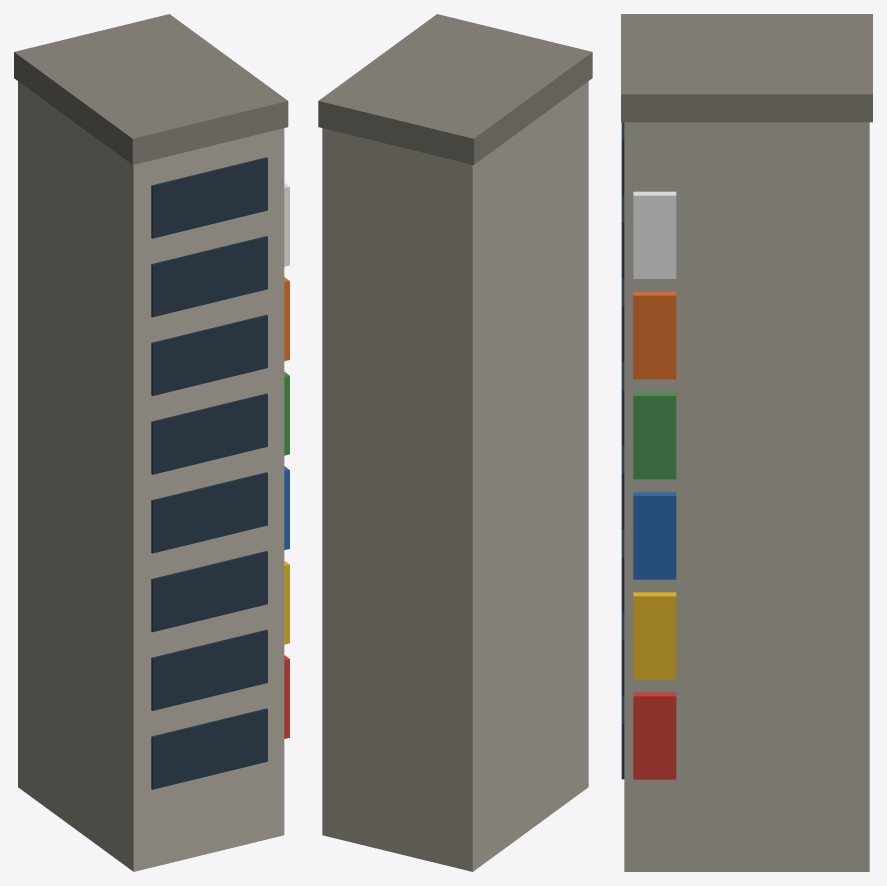
Rendered from city_pencil_building.glb.
The picture shows the model from 3 angles, left to right: view 1: azimuth 30°, elevation 25°; view 2: azimuth 150°, elevation 25°; view 3: azimuth 270°, elevation 25°; orthographic projection. The views are drawn at different scales.
Visible parts, largest first — view 1: city_pencil_building_concrete, city_pencil_building_window, city_pencil_building_concreteDark; view 2: city_pencil_building_concrete, city_pencil_building_concreteDark; view 3: city_pencil_building_concrete, city_pencil_building_concreteDark, city_pencil_building_red, city_pencil_building_yellow, city_pencil_building_blue, city_pencil_building_green, city_pencil_building_orange, city_pencil_building_white, city_pencil_building_window.
Boxes of the visible parts, bbox=[...] form: city_pencil_building_concrete: bbox=[18, 81, 284, 871]; city_pencil_building_window: bbox=[151, 157, 267, 789]; city_pencil_building_concreteDark: bbox=[14, 14, 288, 164]; city_pencil_building_concrete: bbox=[322, 81, 588, 871]; city_pencil_building_concreteDark: bbox=[318, 14, 592, 164]; city_pencil_building_concrete: bbox=[624, 122, 869, 871]; city_pencil_building_concreteDark: bbox=[621, 14, 872, 122]; city_pencil_building_red: bbox=[633, 692, 676, 779]; city_pencil_building_yellow: bbox=[633, 592, 676, 679]; city_pencil_building_blue: bbox=[633, 492, 676, 579]; city_pencil_building_green: bbox=[633, 392, 676, 479]; city_pencil_building_orange: bbox=[633, 292, 676, 379]; city_pencil_building_white: bbox=[633, 191, 676, 278]; city_pencil_building_window: bbox=[621, 122, 624, 779].
Size of the model in its own units: 6.5 by 28 by 8.2.
